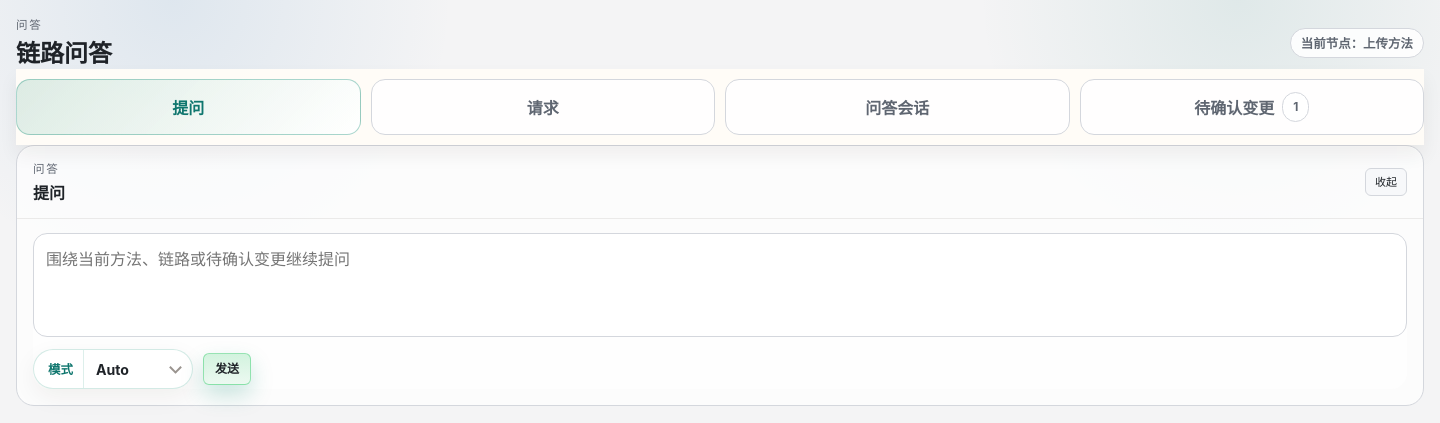
Test case: QaTab › can collapse the current page and reopen a different page from the tab list
Click the button with aria-label "收起当前页面".
click(1386, 182)  # box 1365,168 -> 1407,196
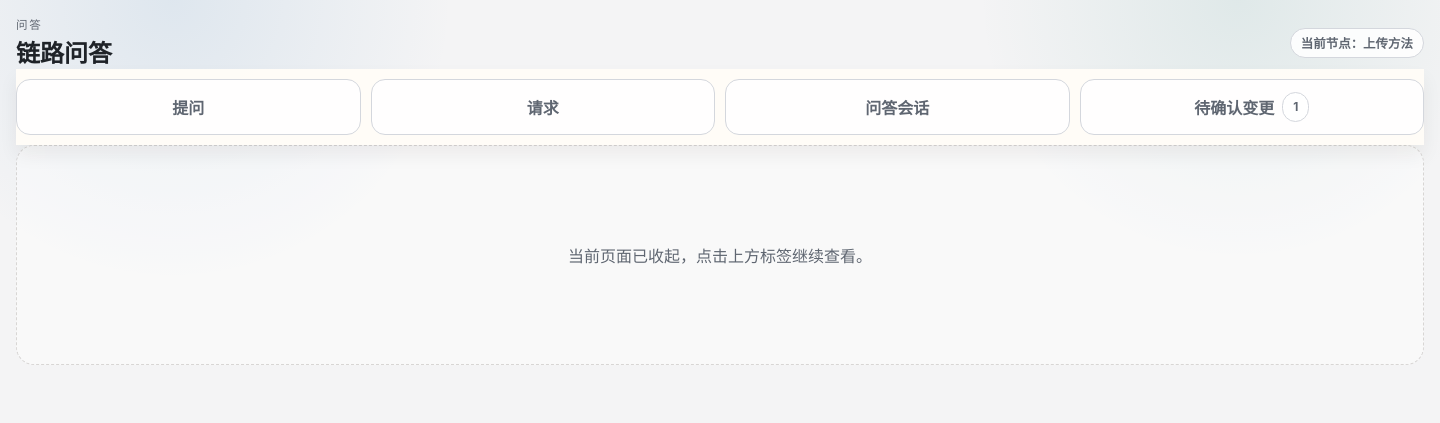
Result: the panel is gone
Result: the text "当前页面已收起，点击上方标签继续查看。" is shown at 568,243 -> 872,267
Click the tab "提问".
click(188, 107)  # box 16,79 -> 360,135
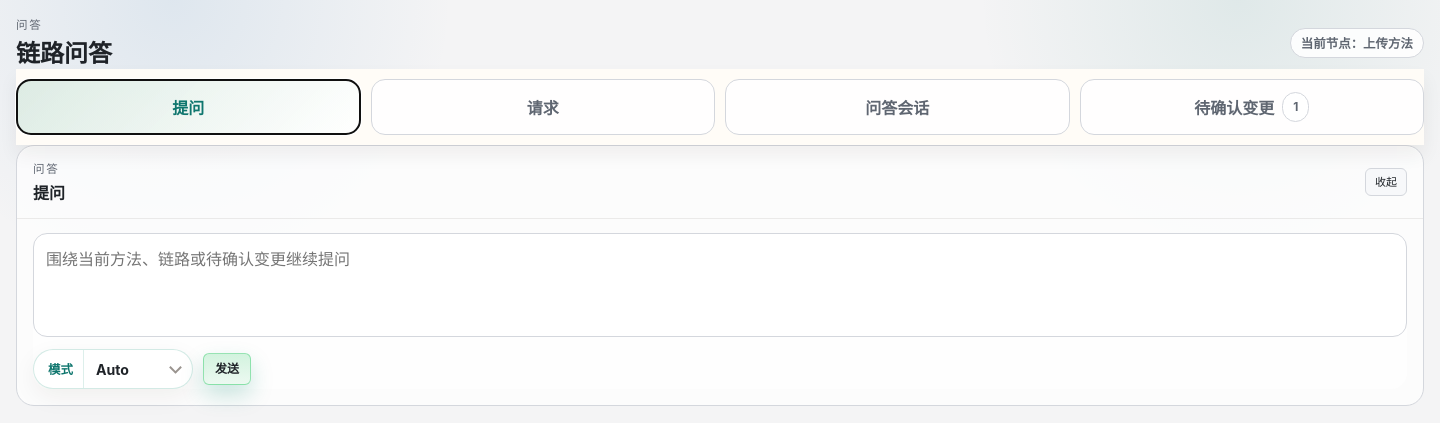
Result: the text "当前页面已收起，点击上方标签继续查看。" is gone
Result: the heading "提问" is shown at 33,180 -> 65,204
Result: the text box named "问答输入框" is shown at 33,233 -> 1407,337
